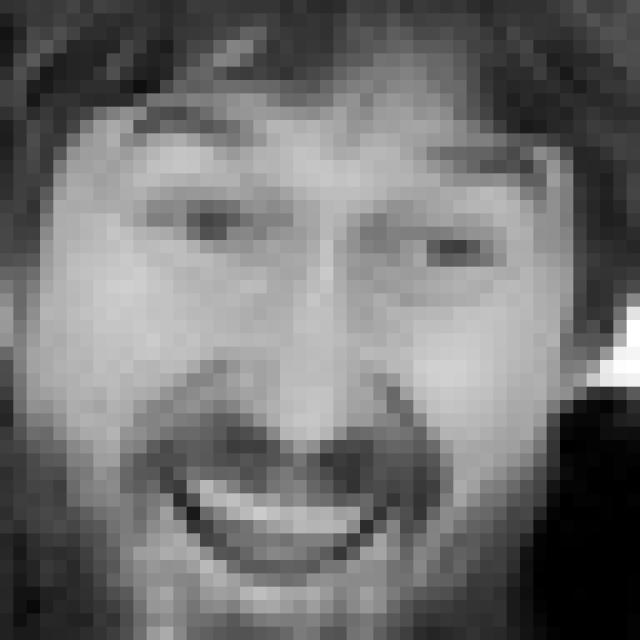happy: (121, 100, 554, 596)
